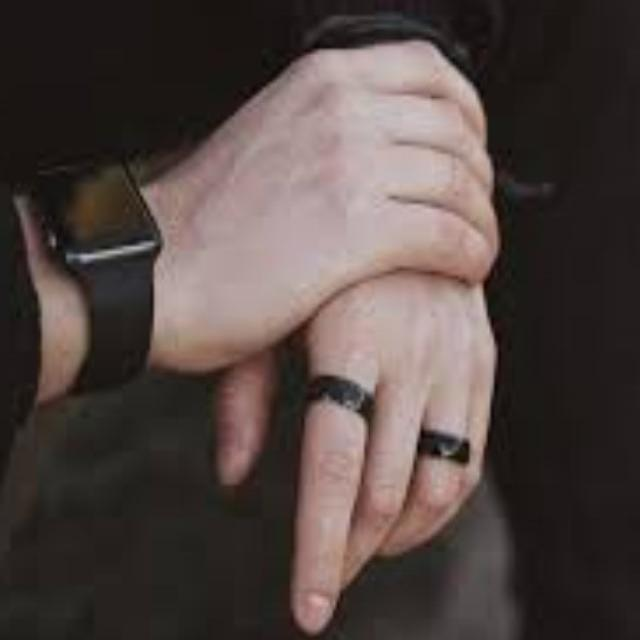Watch: (27, 148, 167, 392)
